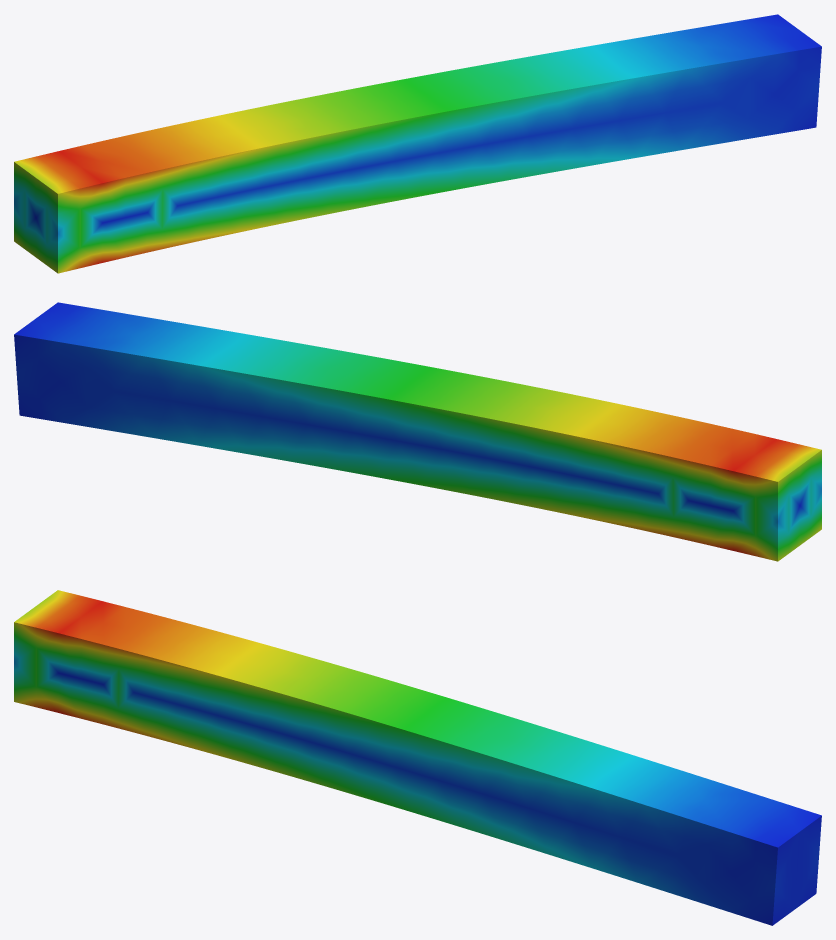
File: cantilever.result.glb
3 renders of one model, top to bottom at view 1: azimuth 30°, elevation 25°; view 2: azimuth 150°, elevation 25°; view 3: azimuth 330°, elevation 25°, orthographic.
Parts seen in each view (by area): view 1: bar von Mises; view 2: bar von Mises; view 3: bar von Mises.
Boxes of the visible parts, left/top/right/bottom form: bar von Mises: left=14, top=14, right=821, bottom=273; bar von Mises: left=14, top=302, right=821, bottom=561; bar von Mises: left=14, top=590, right=821, bottom=925.
Size of the model in its own units: 0.1004 by 0.0149 by 0.01.
Materials: 1 (1 with a texture image).
